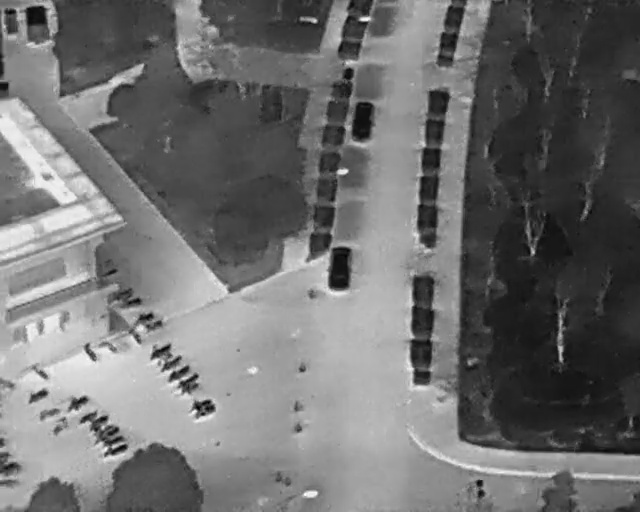Bicycle: (61, 389, 93, 416), (144, 335, 175, 362), (164, 360, 194, 385), (184, 392, 214, 417), (26, 359, 54, 385), (92, 422, 122, 446), (191, 400, 220, 423), (48, 414, 73, 440), (157, 351, 185, 374), (173, 369, 201, 392), (100, 439, 131, 459), (24, 385, 52, 407), (35, 402, 63, 424), (97, 334, 123, 357), (85, 411, 112, 433), (177, 378, 203, 400), (130, 308, 156, 329), (74, 406, 99, 427), (125, 325, 146, 348), (79, 340, 99, 364), (97, 433, 126, 449), (142, 315, 165, 335), (119, 295, 145, 310), (115, 284, 136, 302)
Car: (347, 99, 379, 145), (325, 244, 353, 294), (2, 6, 21, 38)
OtherVehicle: (22, 1, 51, 46)
